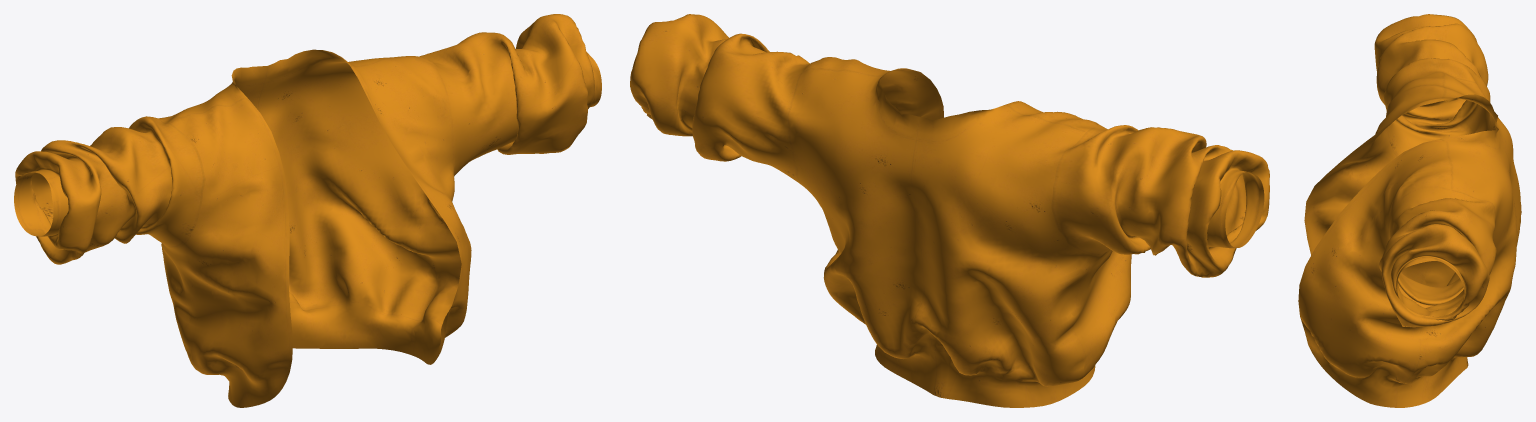
The model's file is atomic_jacket.glb.
The picture shows the model from 3 angles, left to right: view 1: azimuth 30°, elevation 25°; view 2: azimuth 150°, elevation 25°; view 3: azimuth 270°, elevation 25°; orthographic projection. The views are drawn at different scales.
Visible parts, largest first — view 1: Jacket; view 2: Jacket; view 3: Jacket.
Boxes of the visible parts, x1=… form: Jacket: x1=14, y1=14, x2=601, y2=407; Jacket: x1=630, y1=14, x2=1269, y2=407; Jacket: x1=1298, y1=14, x2=1521, y2=407.
Bounding box in the file's own units: 0.9063 × 0.4563 × 0.3529.
1 material, 1 textured.
